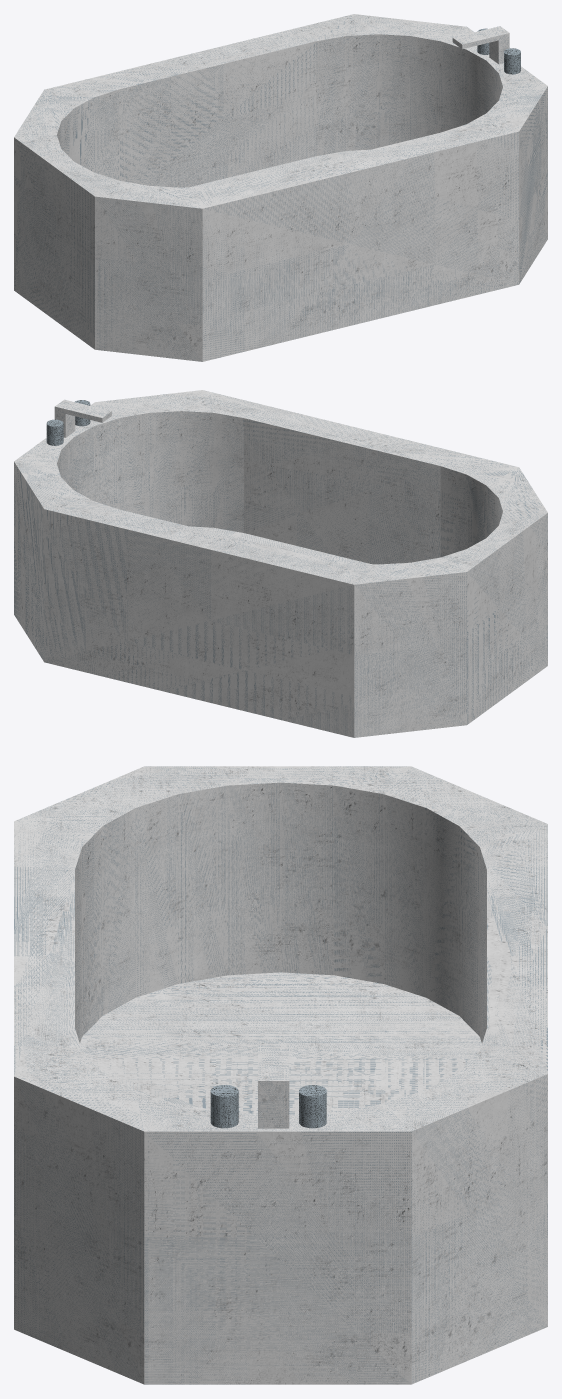
The model's file is bañera.fbx.
3 views of the same model, one above another, from view 1: azimuth 30°, elevation 25°; view 2: azimuth 150°, elevation 25°; view 3: azimuth 270°, elevation 25° (orthographic). The views are drawn at different scales.
Visible parts, largest first — view 1: Model; view 2: Model; view 3: Model.
Part boxes in pixels (x1=…): Model: x1=14, y1=14, x2=547, y2=361; Model: x1=14, y1=390, x2=547, y2=737; Model: x1=14, y1=766, x2=547, y2=1384.
Size of the model in its own units: 2.48 by 0.95 by 1.53.
